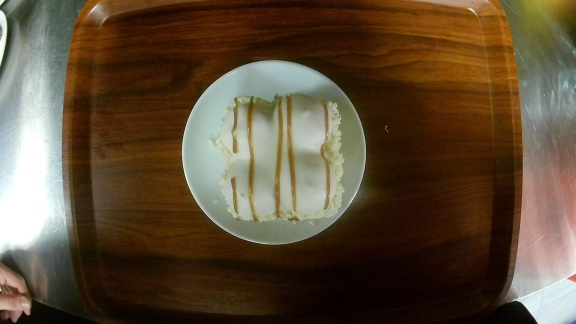beyazpasta: (182, 59, 366, 244)
